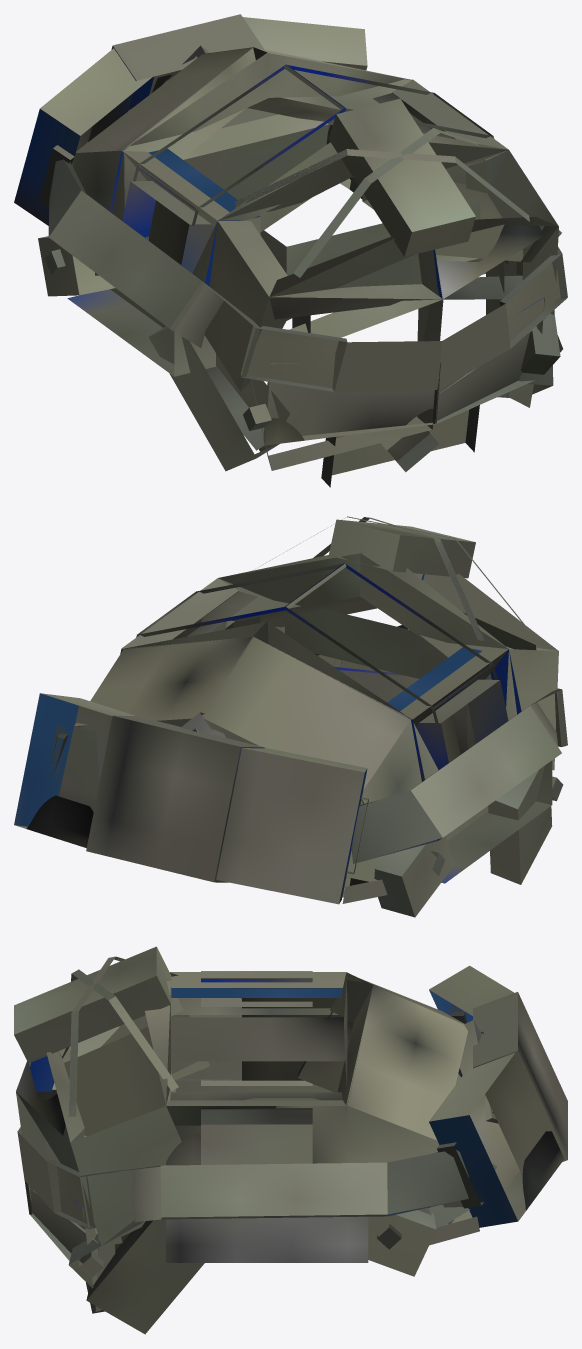
File: ukrainian_veteran_h.obj
3 views of the same model, one above another, from view 1: azimuth 30°, elevation 25°; view 2: azimuth 150°, elevation 25°; view 3: azimuth 270°, elevation 25° (orthographic). The views are drawn at different scales.
Parts seen in each view (by area): view 1: cube; view 2: cube; view 3: cube.
Boxes of the visible parts, left/top/right/bottom form: cube: left=14, top=14, right=567, bottom=487; cube: left=14, top=516, right=567, bottom=917; cube: left=14, top=946, right=567, bottom=1334.
Bounding box in the file's own units: 0.7693 × 0.6319 × 0.9934.
